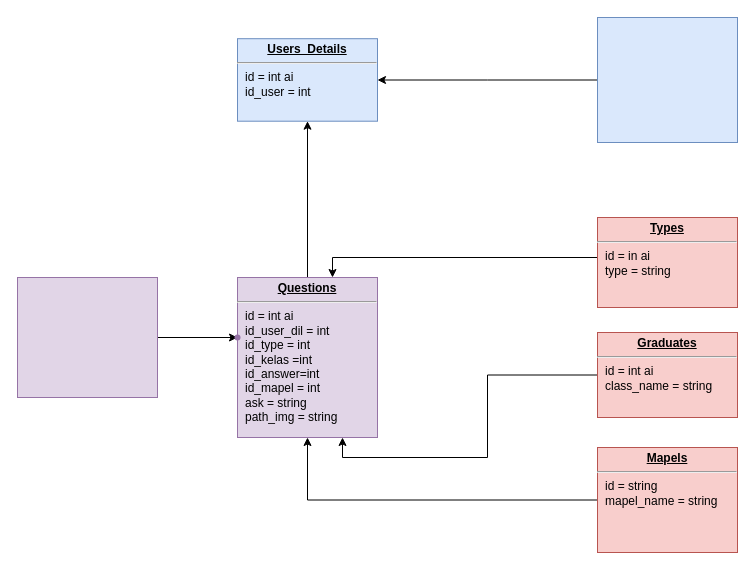
Some shapes in this 755 by 570 pixel diagram are drawn without their labels. The shapes that lost their labels are listed below. From the top down, each one's box as (x1, y1, x2, y2) in pixels, then its label:
(596, 16, 738, 142): Users id = int ai pk name = string email = string password = password timestamp
(16, 276, 158, 398): Answers id = int ai id_question =int answer = string path_img = string
